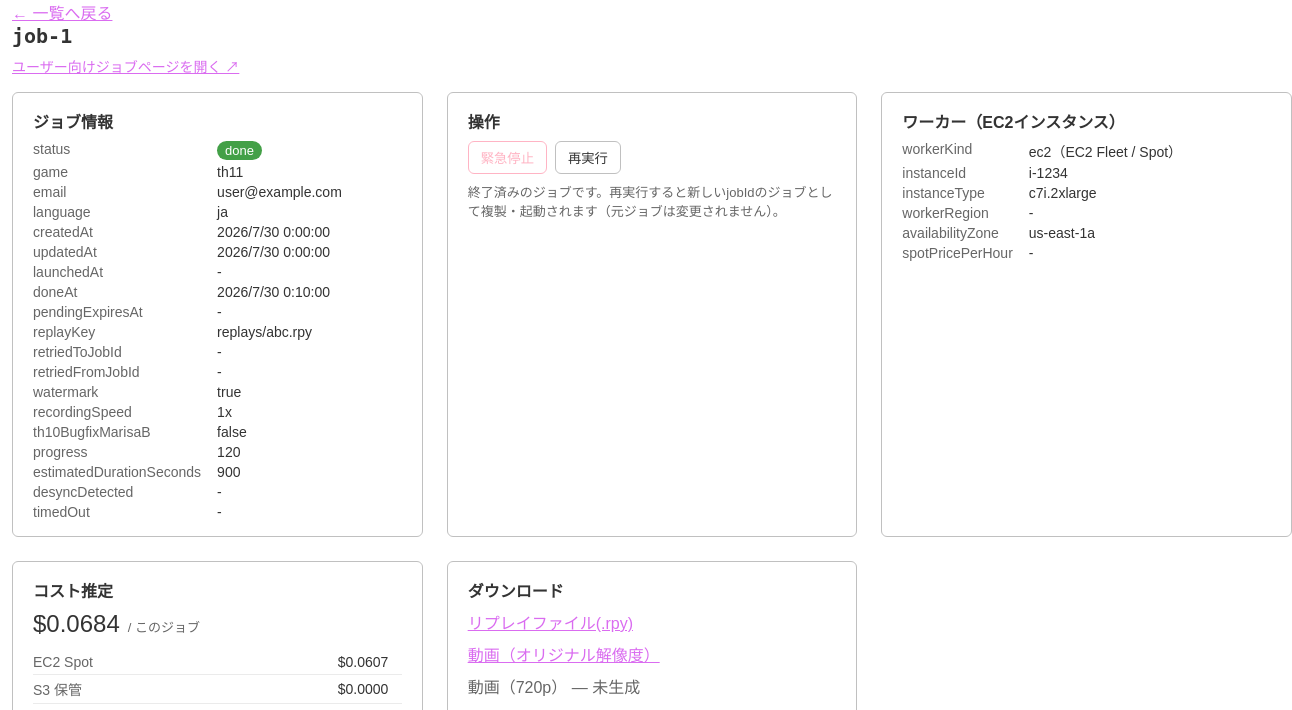
Test: JobDetailPage › 操作パネル(Issue #59) › 再実行に成功したら新しいjobIdへのリンクを表示する
The image size is (1292, 710).
Click the button "再実行": (588, 158) [555, 141, 621, 174]
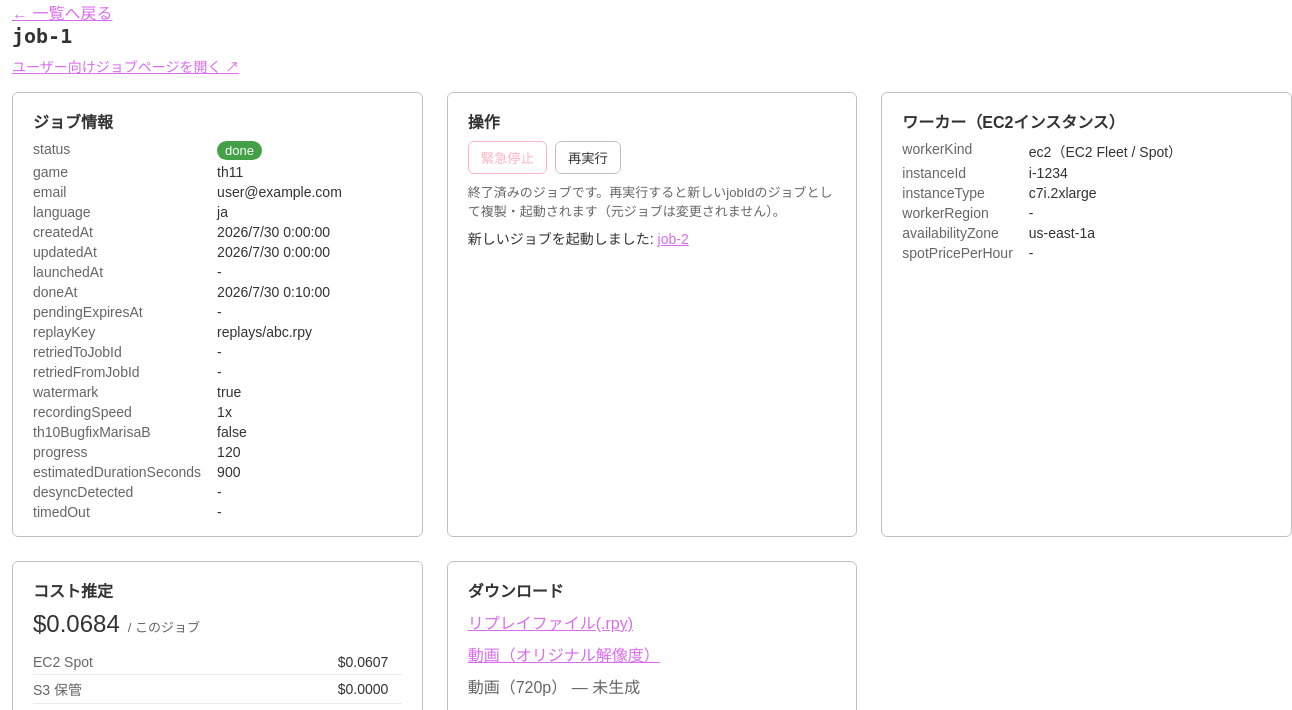
Expected: the link "job-2" is shown, [658, 231, 689, 247]
